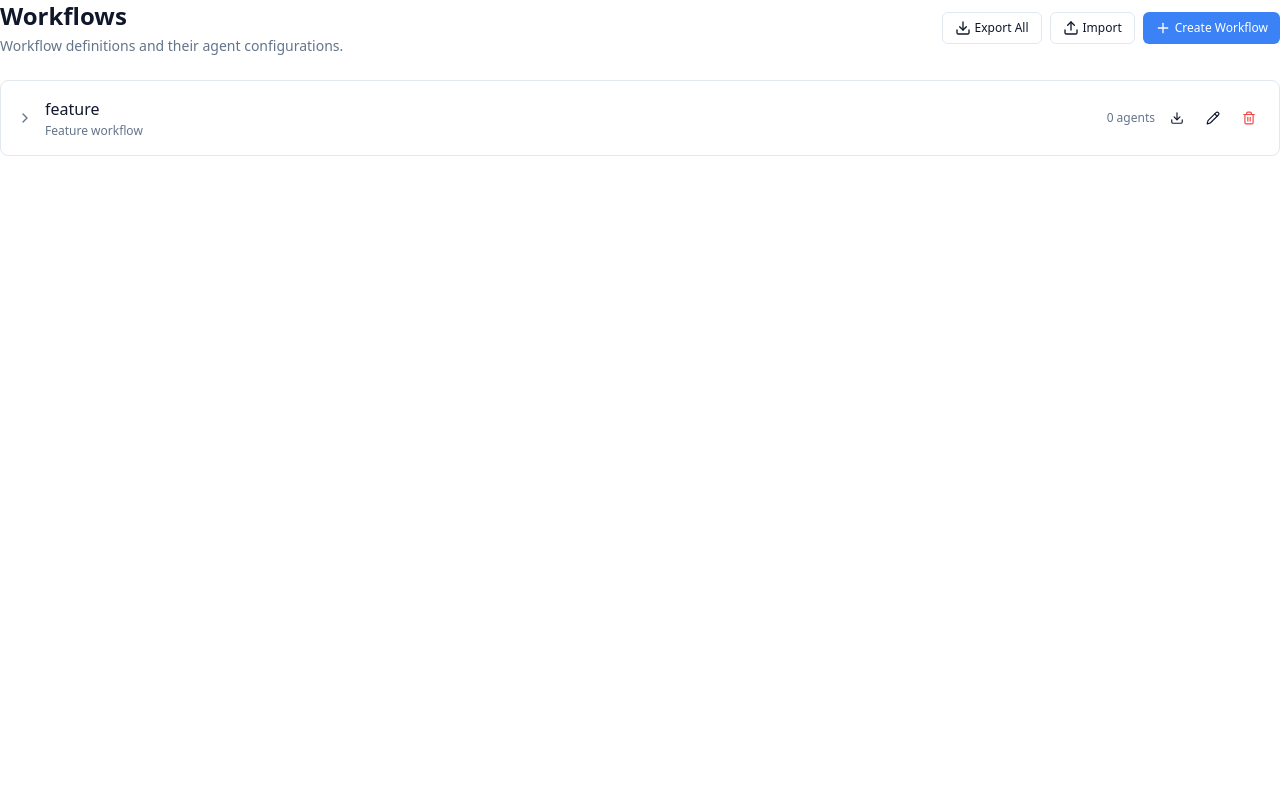
WorkflowsPage › workflow actions › opens edit dialog when edit button clicked
The width and height of the screenshot is (1280, 800).
Expected: the text "feature" is shown, [45,98,100,120]
Click the button titled "Edit workflow" at (1213, 118), box [1199,104,1227,132]
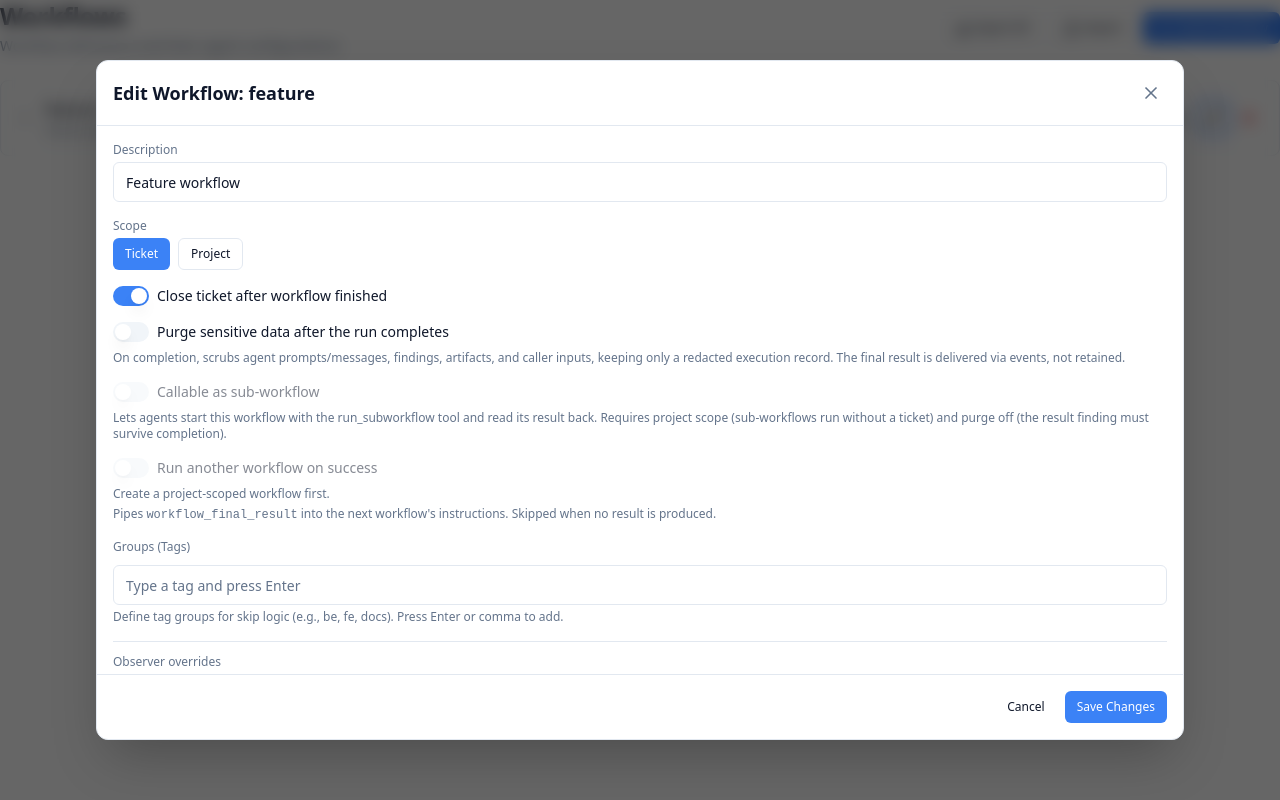
Expected: the heading "Edit Workflow: feature" is shown, [113,81,315,105]
